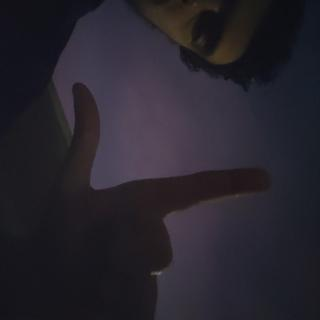LAAM: (56, 55, 239, 320)
